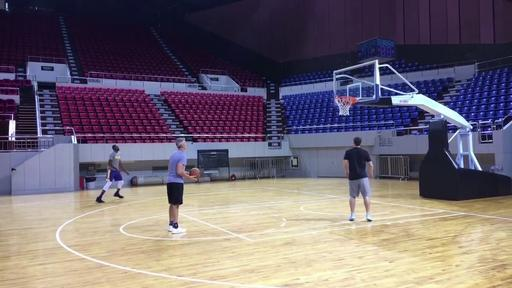ball: (340, 96, 352, 105), (190, 168, 200, 176)
human: (166, 138, 198, 234), (344, 136, 374, 222), (96, 144, 130, 204)
rim: (334, 96, 356, 115)
